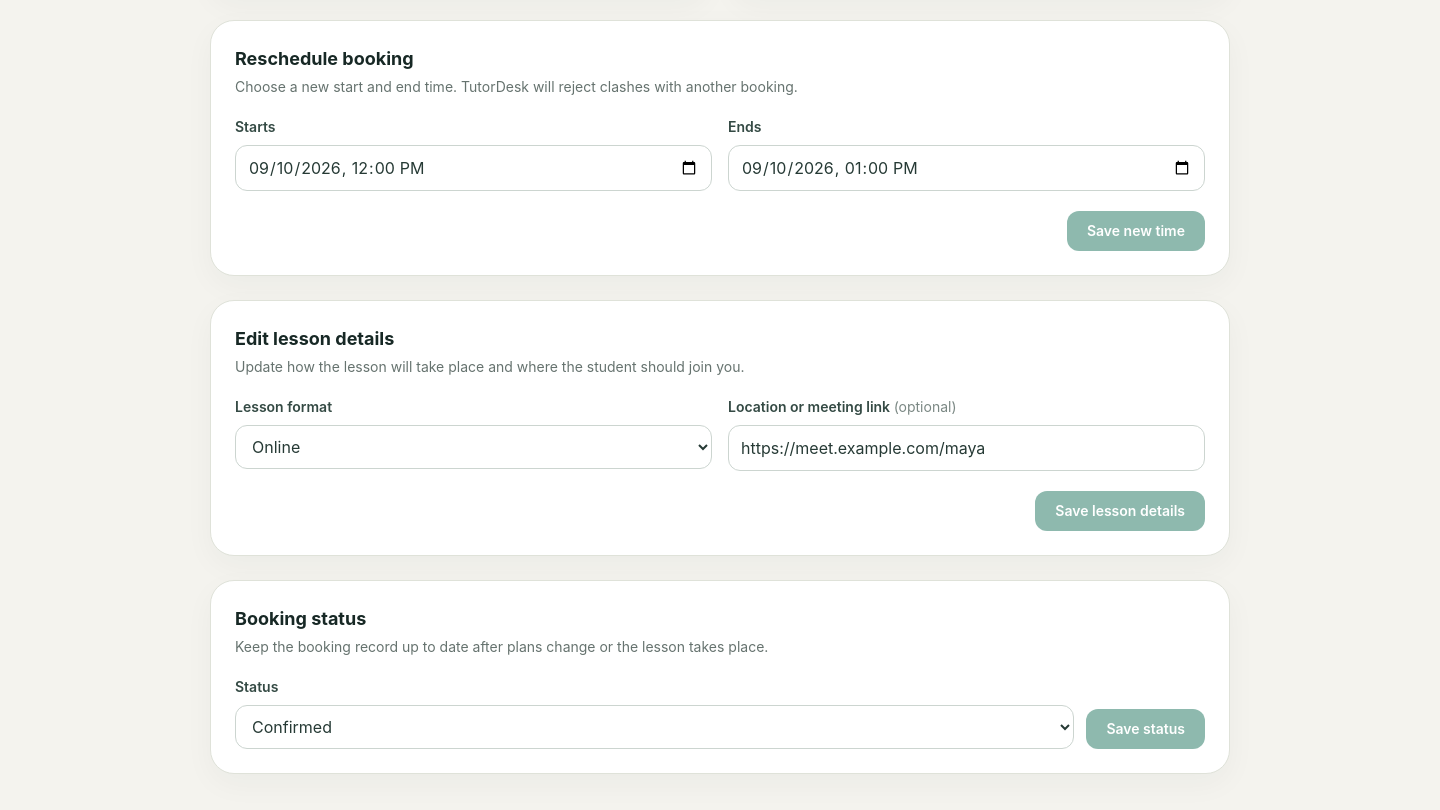
Test: shows an error when a status update fails
(page scrolled)
Select "Cancelled" in the dropdown labelled "Status" at (655, 726), box left=235, top=704, right=1074, bottom=748
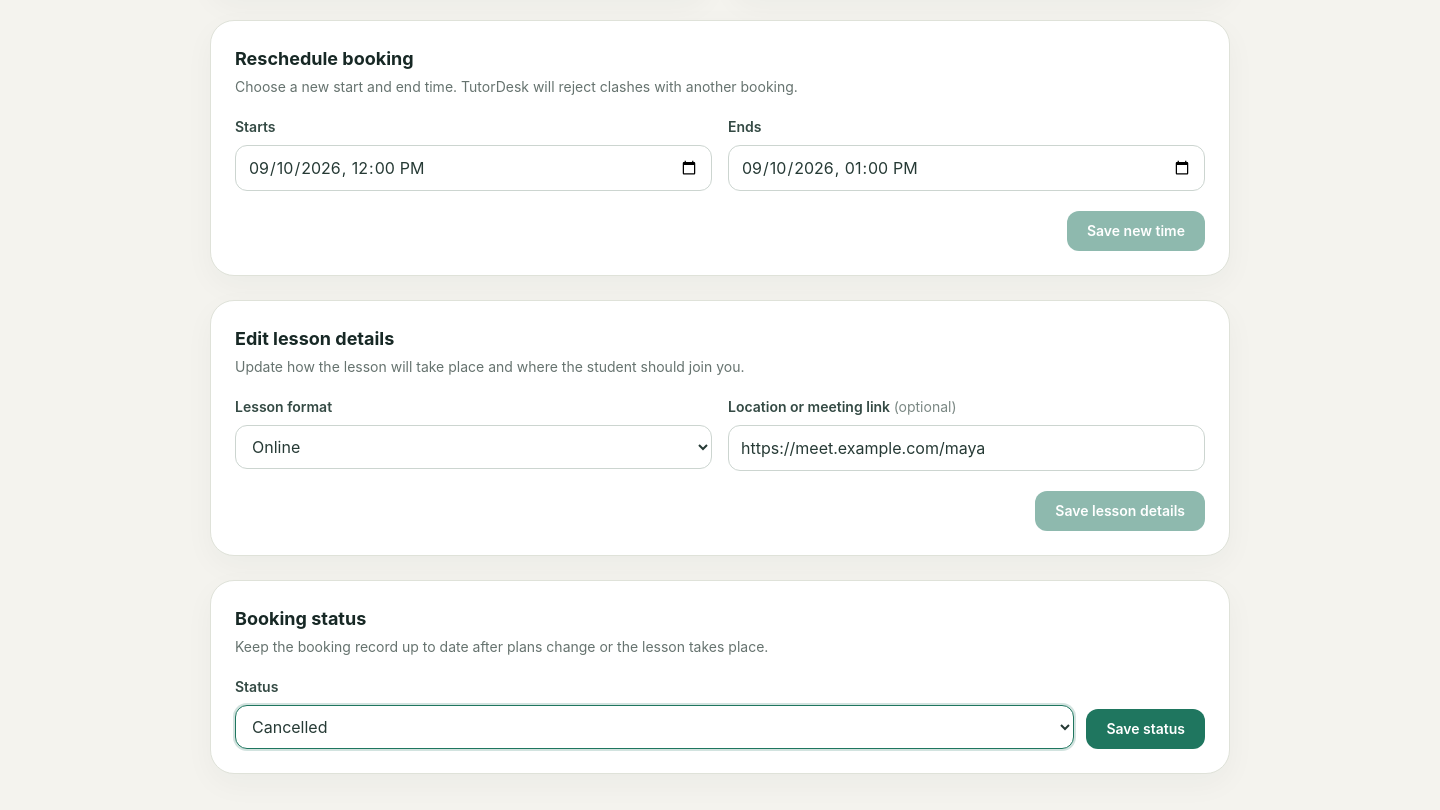
Click the button "Save status" at (1146, 728), box left=1086, top=708, right=1205, bottom=748
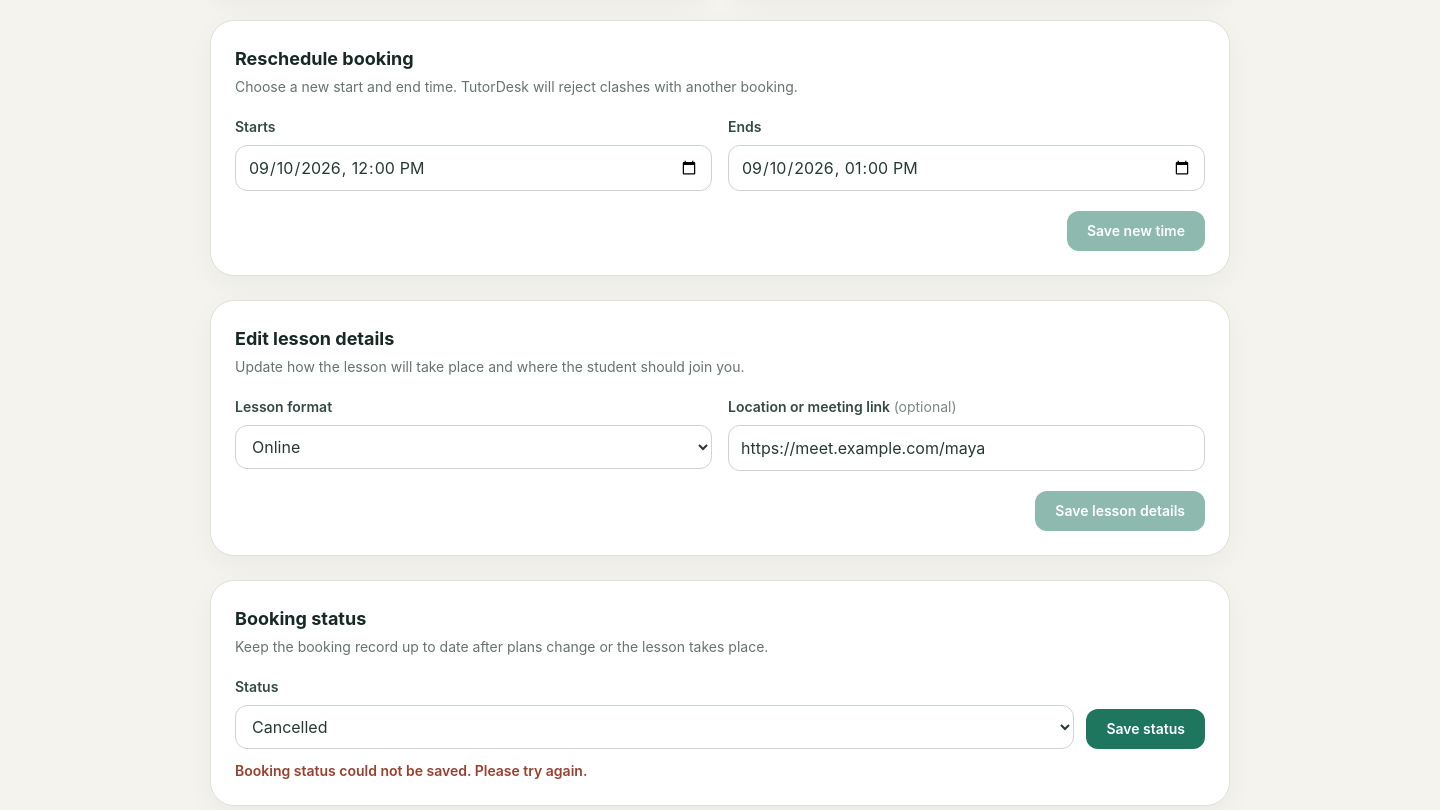
expect the button "Save status" is enabled: met, box left=1086, top=708, right=1205, bottom=748
expect the message shows "Booking status could not be saved": met, box left=235, top=762, right=587, bottom=778
